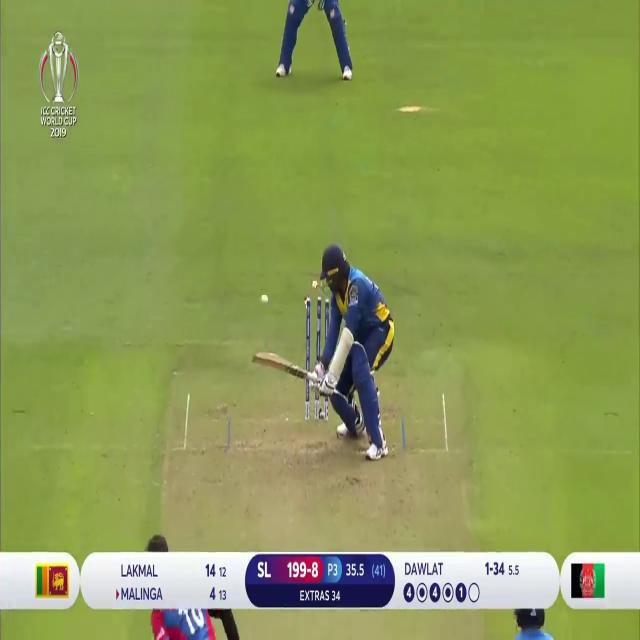ball: (260, 290, 270, 308)
